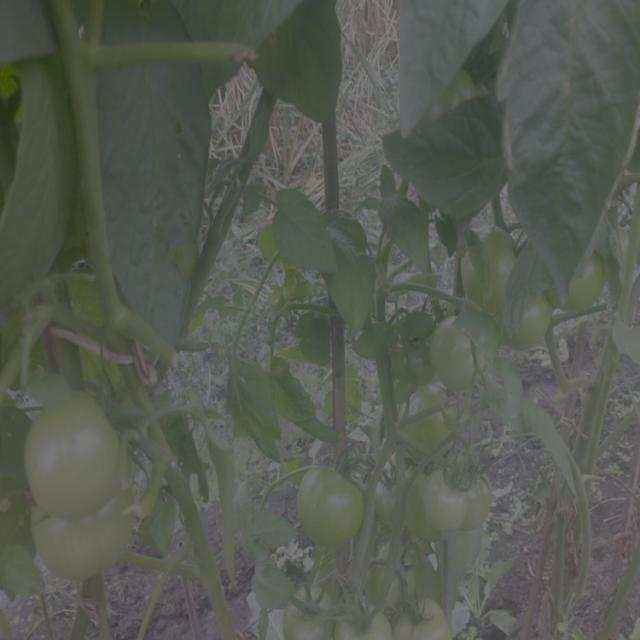tomato: (28, 393, 139, 580), (297, 470, 372, 544), (389, 379, 463, 454), (426, 462, 494, 534), (462, 238, 517, 313), (376, 468, 422, 542), (551, 257, 613, 311), (432, 320, 484, 375), (286, 589, 332, 640), (398, 599, 450, 640), (335, 604, 392, 640), (520, 299, 550, 347)
